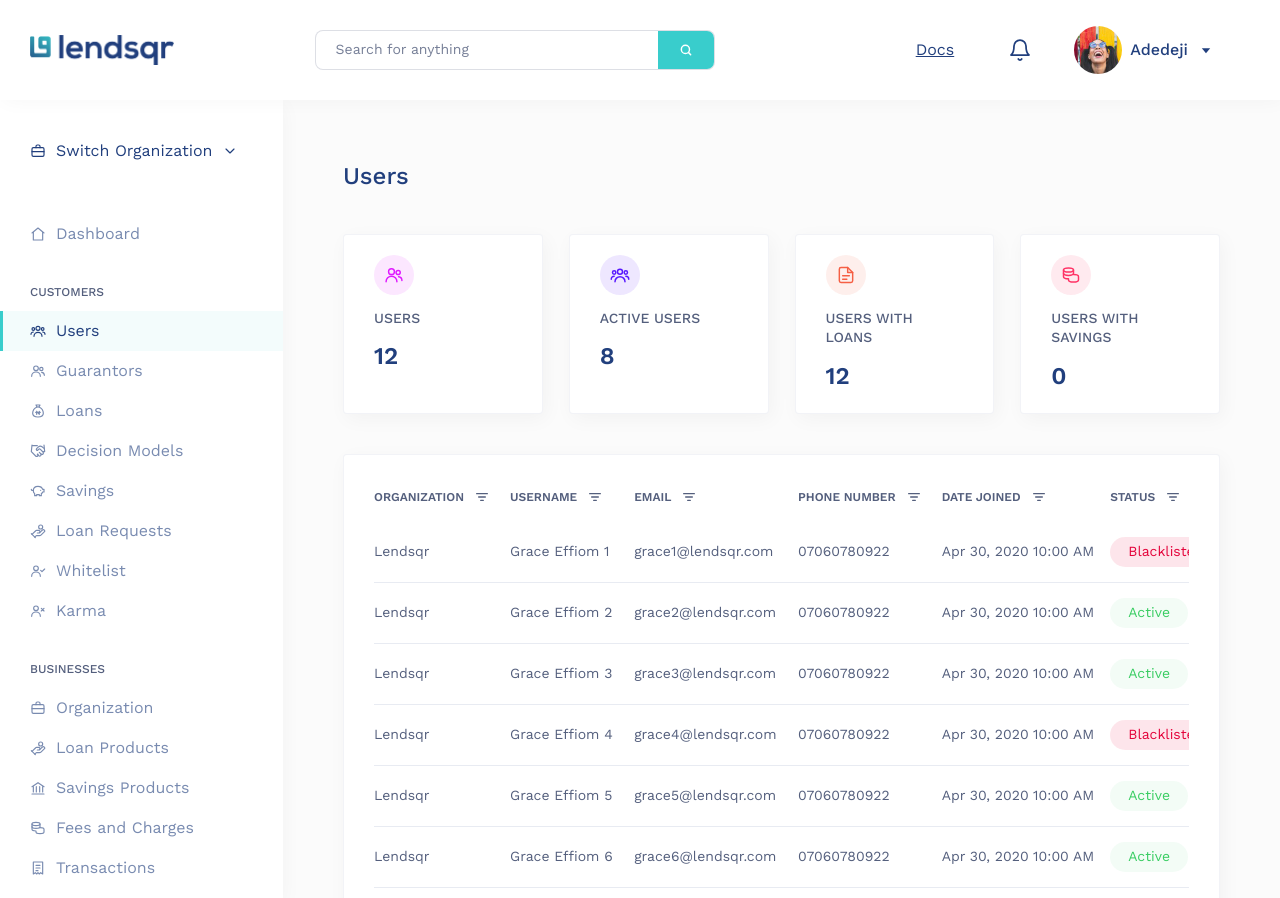
Test: UsersPage › filters by status through the filter panel
The width and height of the screenshot is (1280, 898).
Expected: the link "Grace Effiom 1" is shown, [510,543,609,559]
Click the button named "Filter users" at [482, 497], box [470,485,494,509]
(page scrolled)
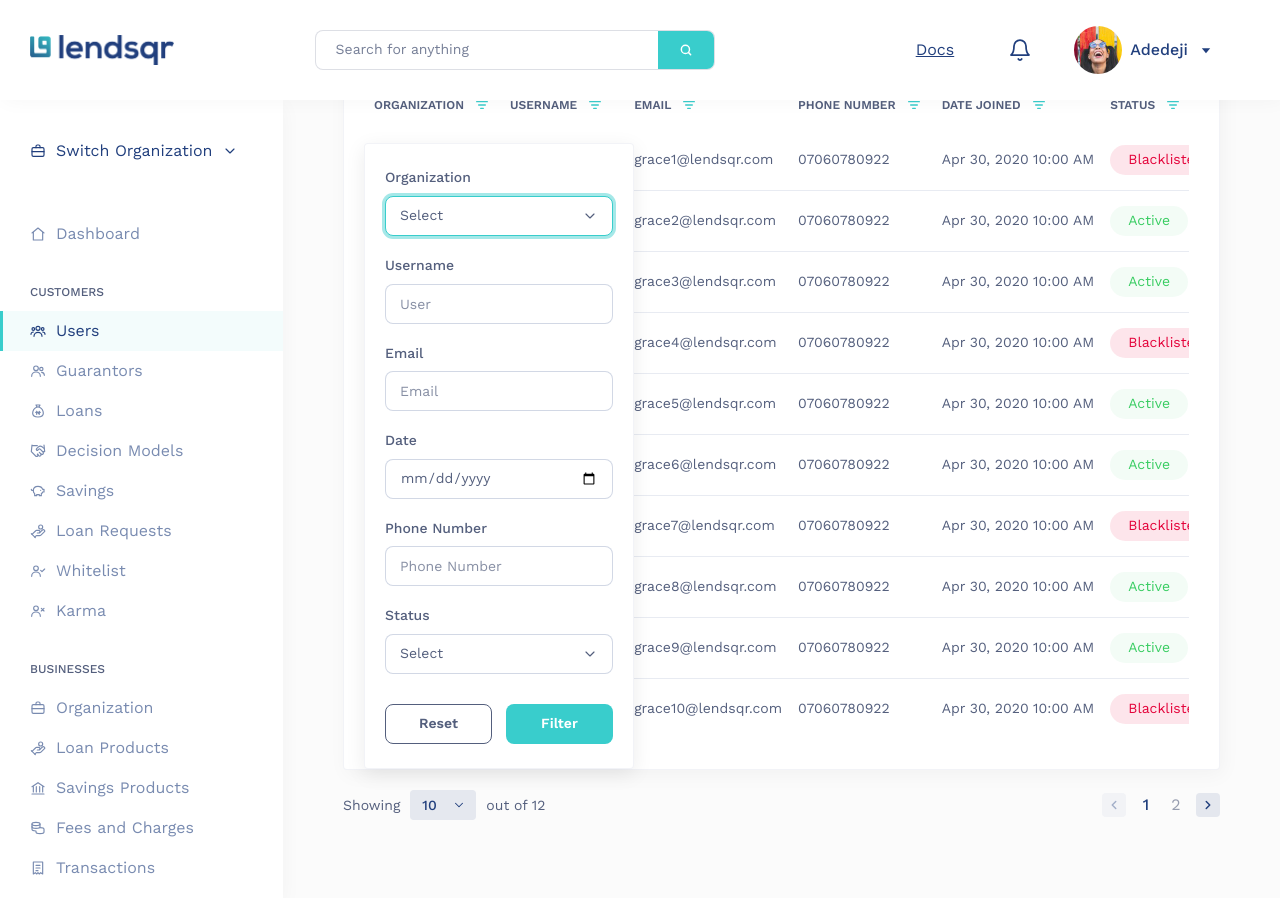
Select "Blacklisted" in the dropdown labelled "Status" at [499, 654], box [386,635,612,673]
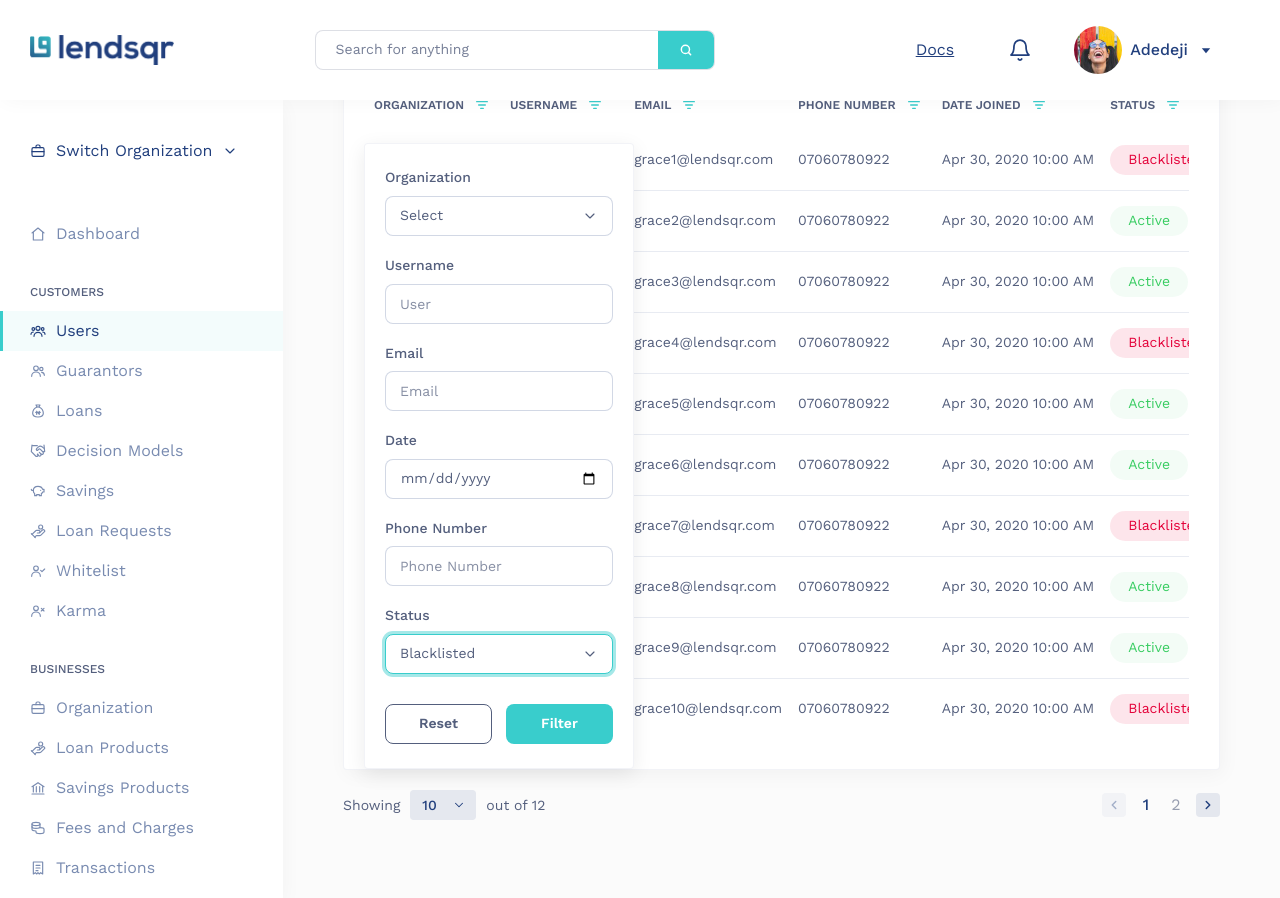
Click the button "Filter" at [560, 724], box [506,704,613,744]
(page scrolled)
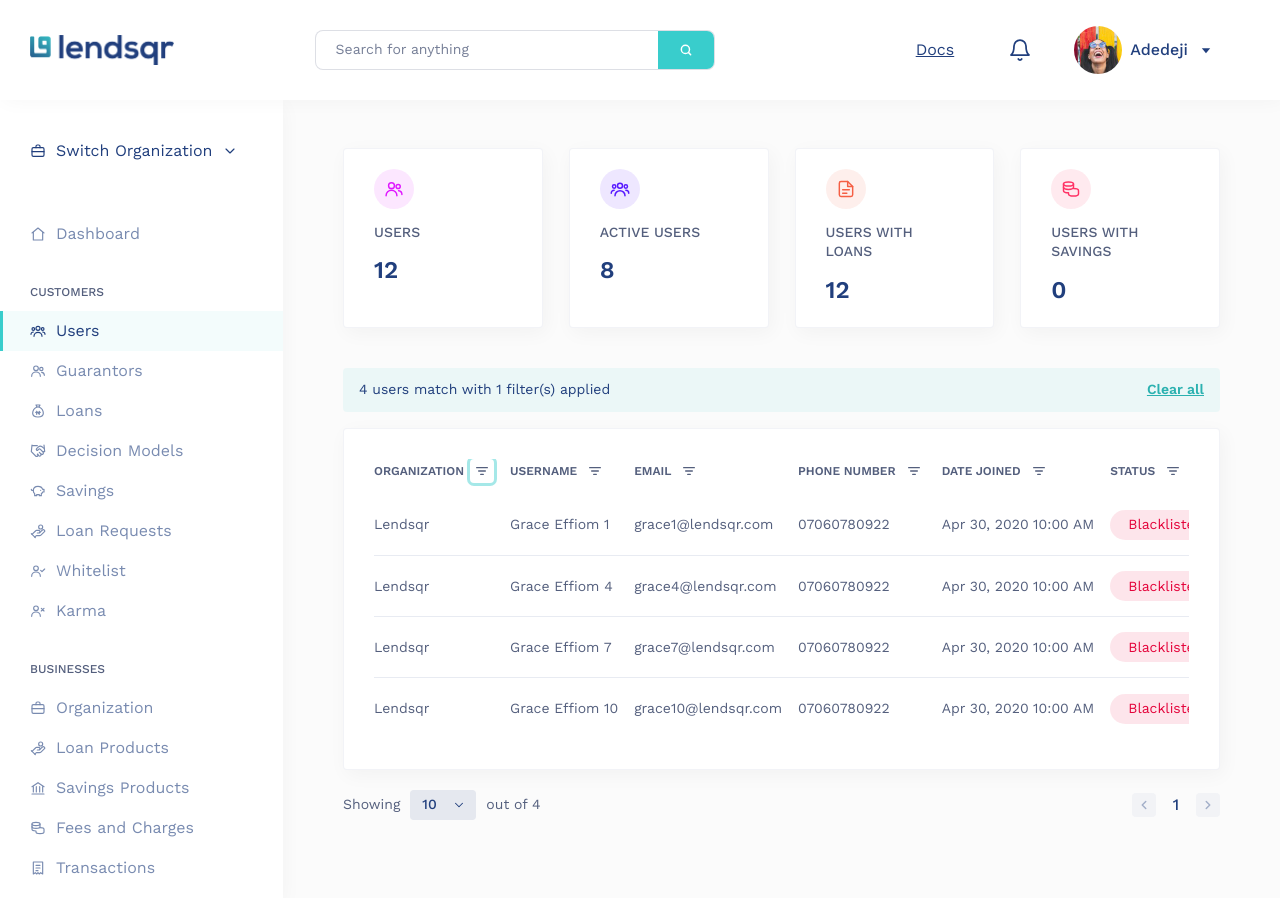
Expected: the text "Blacklisted" in the row of "grace1@lendsqr.com" is shown, [1128,516,1189,532]
Result: the dialog is gone
